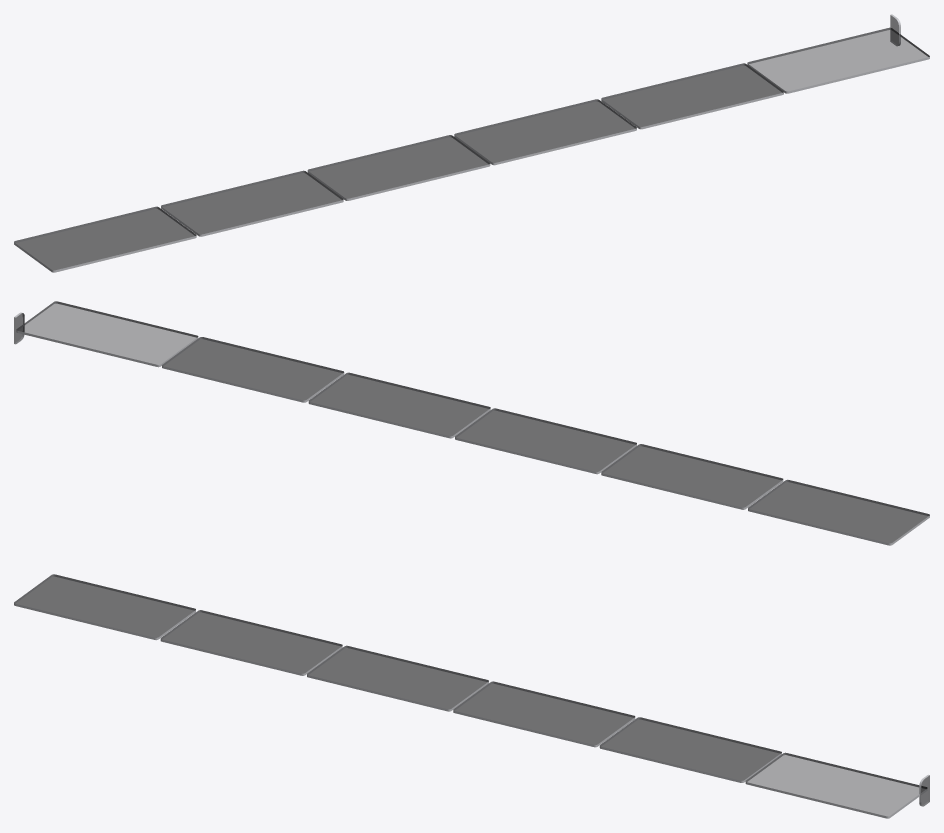
Rendered from ShelfDividerTransparent02.obj.
3 renders of one model, top to bottom at view 1: azimuth 30°, elevation 25°; view 2: azimuth 150°, elevation 25°; view 3: azimuth 330°, elevation 25°, orthographic.
Parts seen in each view (by area): view 1: ShelfDividerTransparent02; view 2: ShelfDividerTransparent02; view 3: ShelfDividerTransparent02.
Part boxes in pixels (bbox=[...]): ShelfDividerTransparent02: bbox=[14, 14, 929, 272]; ShelfDividerTransparent02: bbox=[14, 301, 929, 545]; ShelfDividerTransparent02: bbox=[14, 574, 929, 818].
Size of the model in its own units: 0.6326 by 0.0186 by 0.05.
Materials: 2 (1 with a texture image).
